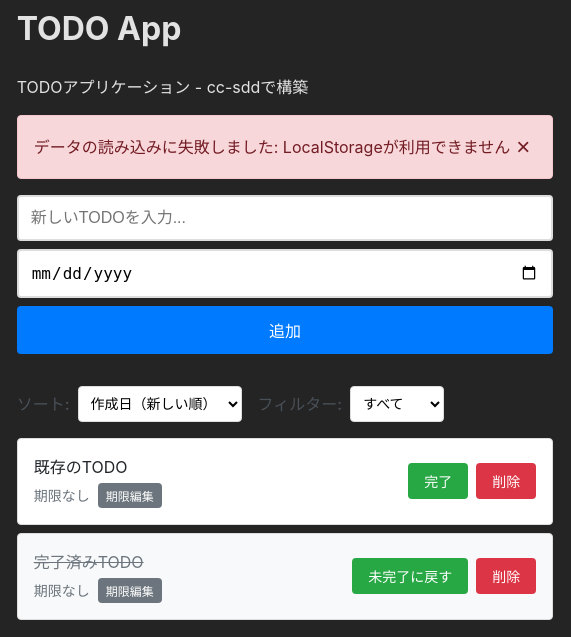
it: App - E2E Integration Tests › ストレージエラー時にエラーメッセージを表示する
Type "エラーテスト" into the field with placeholder "新しいTODOを入力..." at (285, 218), box 17,195 -> 553,241
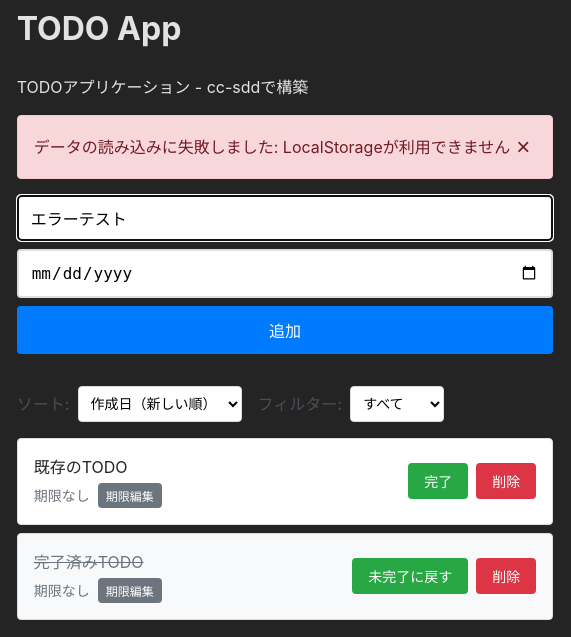
Click the button "追加" at (285, 330), box 17,306 -> 553,354
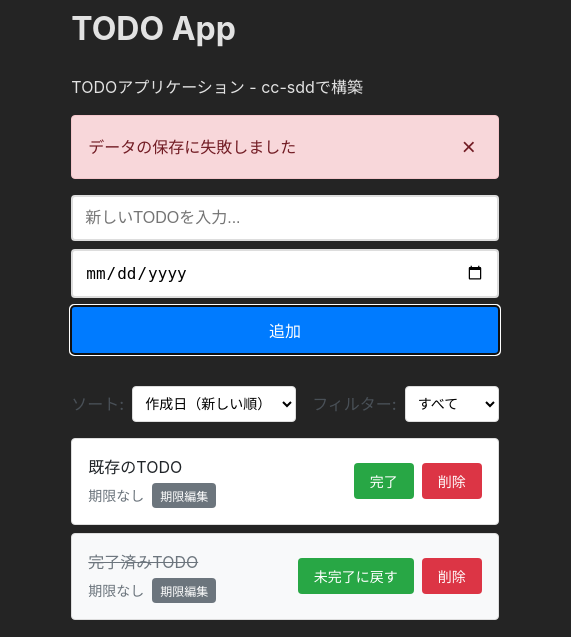
Result: the text "データの保存に失敗しました" is shown at 88,135 -> 296,159
